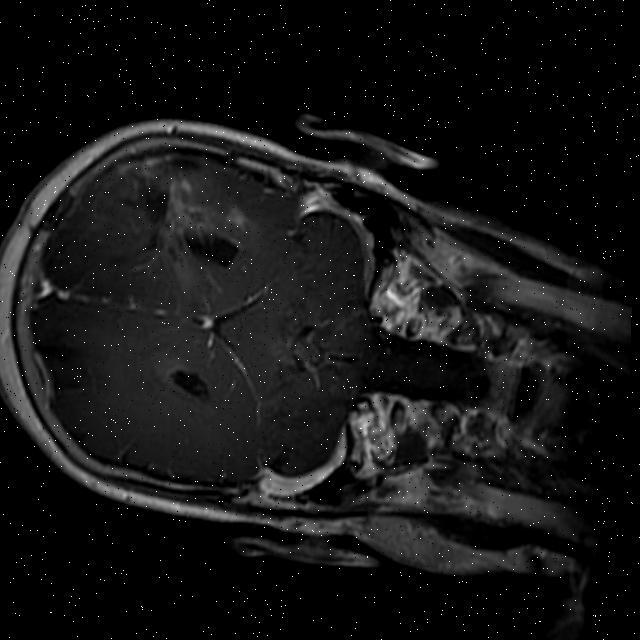Glioma: (123, 163, 224, 299)
